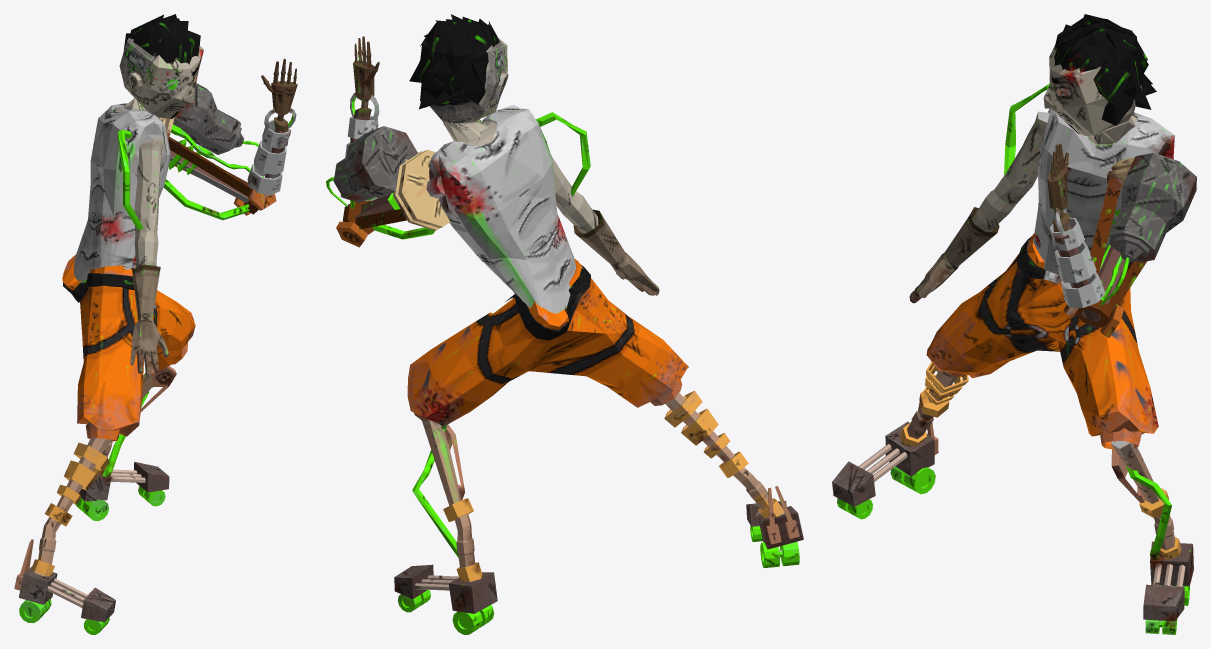
Rendered from CyborgFINALAnimation_000057.obj.
3 renders of one model, left to right at view 1: azimuth 30°, elevation 25°; view 2: azimuth 150°, elevation 25°; view 3: azimuth 270°, elevation 25°, orthographic. The views are drawn at different scales.
Parts seen in each view (by area): view 1: CyborgMesh_Cube.002; view 2: CyborgMesh_Cube.002; view 3: CyborgMesh_Cube.002.
Boxes of the visible parts, x1,y1,x2,y2 form: CyborgMesh_Cube.002: (14, 14, 297, 634); CyborgMesh_Cube.002: (326, 14, 803, 634); CyborgMesh_Cube.002: (832, 14, 1196, 634).
Bounding box in the file's own units: 6.05 × 8.65 × 4.7.
